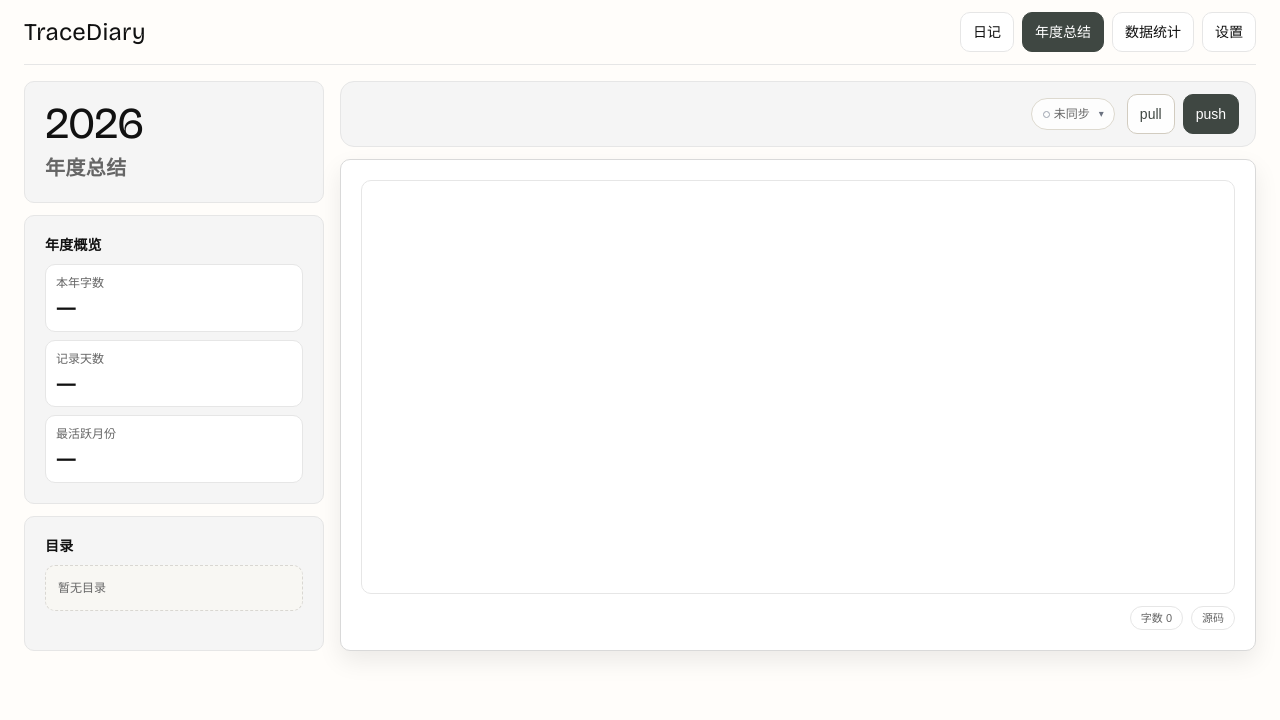
Test: 年度总结页面 › 云端未就绪时点击手动上传应展示明确提示
Click the button "push" at (1211, 114), box [1183,94,1239,134]
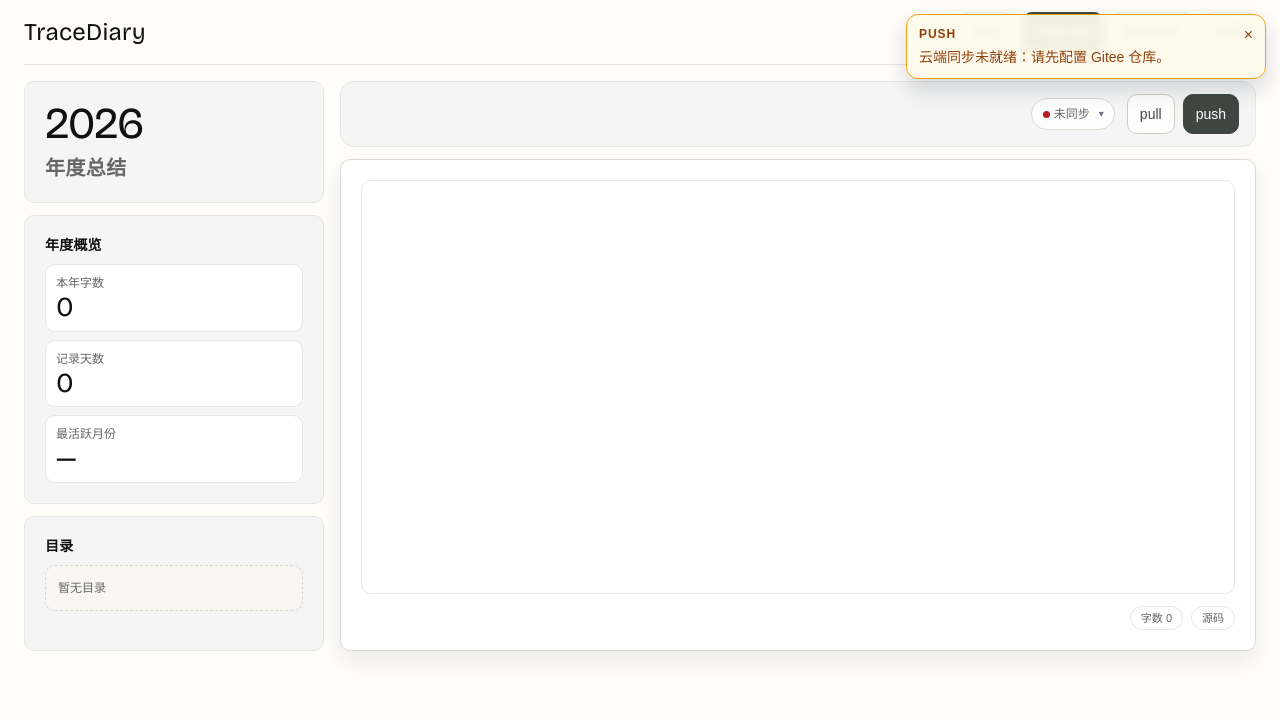
Check: the message with test id "toast-push" shows "云端同步未就绪：请先配置 Gitee 仓库。", box [919,49,1170,65]
